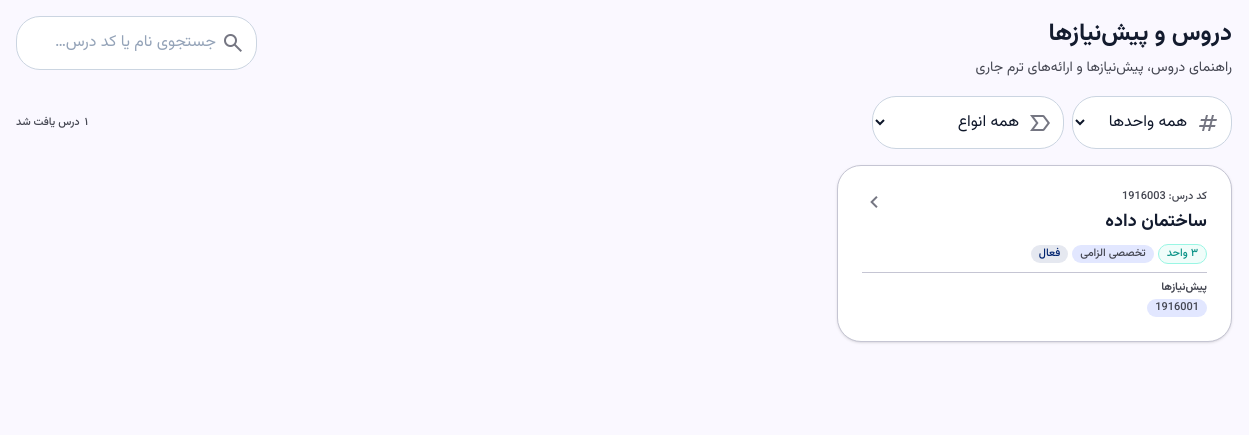
Test: course catalog journey › browses the list and opens a course with its term-scoped offerings
Expected: the text "کد درس: 1916003" is shown, [1122, 188, 1207, 205]
Click the link "ساختمان داده".
click(1035, 254)  # box [837, 165, 1232, 342]
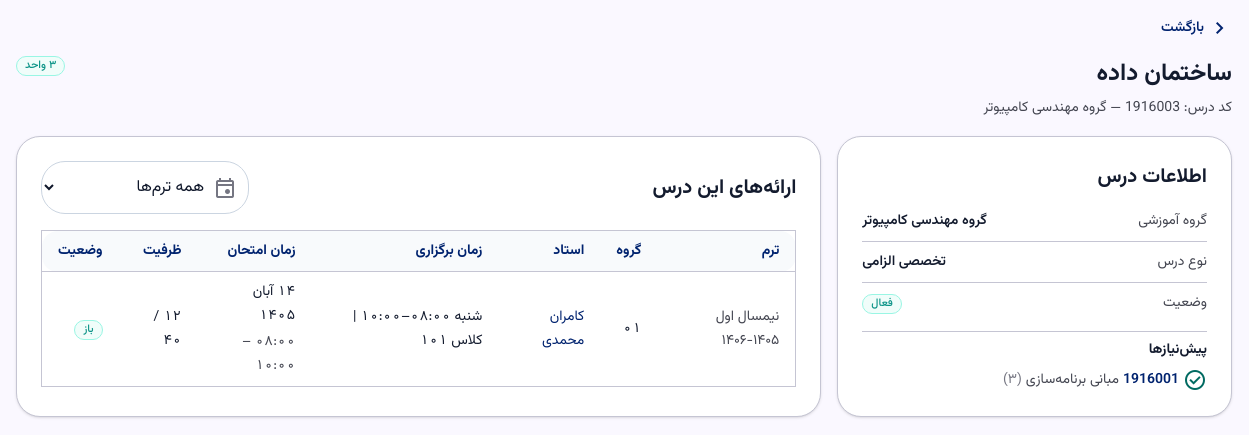
Now the heading "ساختمان داده" is shown, box [1096, 55, 1232, 93]
Now the text "مبانی برنامه‌سازی" is shown, box [1026, 368, 1119, 392]
Now the text "نیمسال اول ۱۴۰۵-۱۴۰۶" is shown, box [657, 272, 796, 386]
